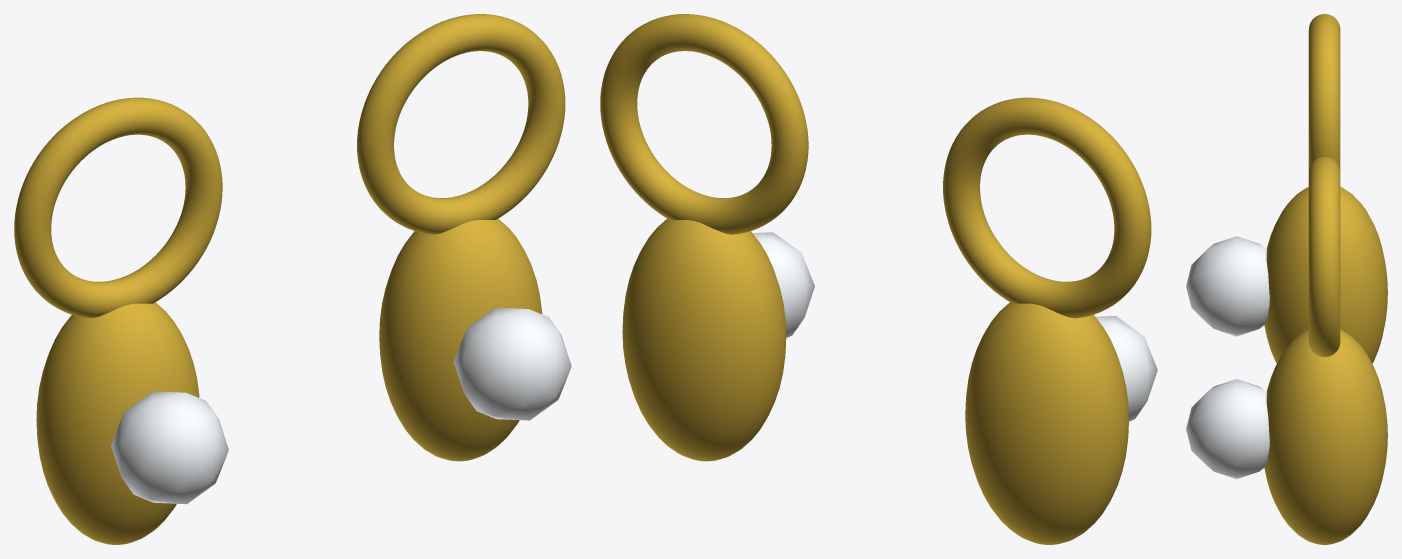
The model's file is aur-003-aurora-drops.glb.
3 renders of one model, left to right at view 1: azimuth 30°, elevation 25°; view 2: azimuth 150°, elevation 25°; view 3: azimuth 270°, elevation 25°, orthographic. The views are drawn at different scales.
Parts seen in each view (by area): view 1: gold_teardrop (×2), gold_hoop (×2), drop_diamond (×2); view 2: gold_teardrop (×2), gold_hoop (×2), drop_diamond (×2); view 3: gold_teardrop (×2), drop_diamond (×2), gold_hoop (×2).
Part boxes in pixels (x1=…): gold_teardrop (×2): x1=36, y1=218, x2=542, y2=544; gold_hoop (×2): x1=14, y1=14, x2=565, y2=318; drop_diamond (×2): x1=111, y1=307, x2=571, y2=504; gold_teardrop (×2): x1=622, y1=218, x2=1128, y2=544; gold_hoop (×2): x1=600, y1=14, x2=1151, y2=318; drop_diamond (×2): x1=753, y1=232, x2=1157, y2=421; gold_teardrop (×2): x1=1264, y1=187, x2=1387, y2=544; drop_diamond (×2): x1=1186, y1=236, x2=1269, y2=479; gold_hoop (×2): x1=1308, y1=14, x2=1340, y2=357.
Size of the model in its own units: 1.53 by 1.17 by 0.574.
